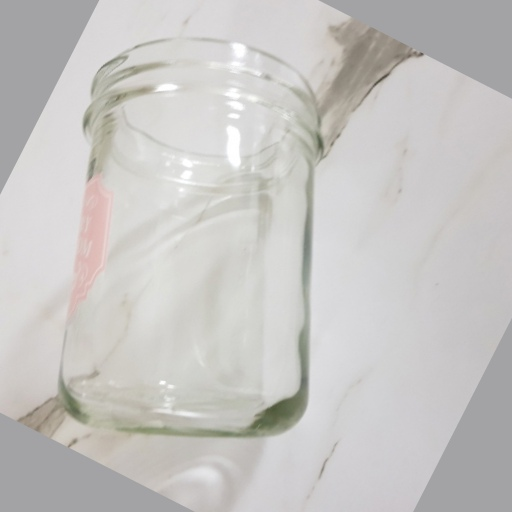Glass_5: (67, 36, 323, 433)
